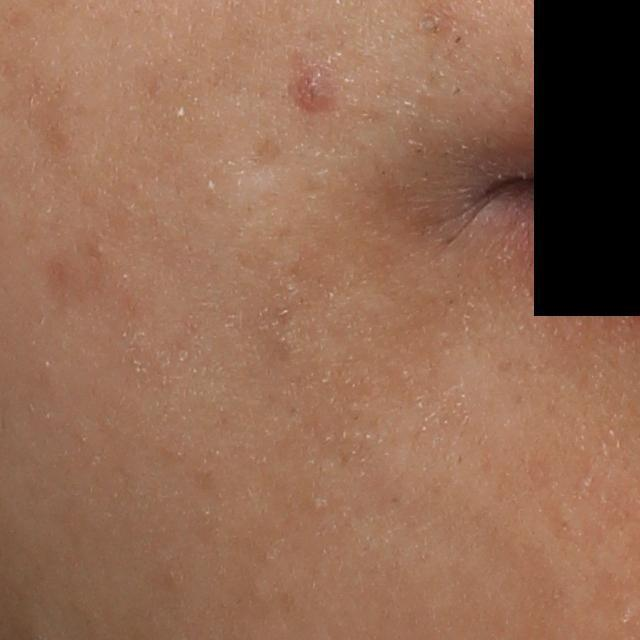papule: (286, 65, 343, 114)
